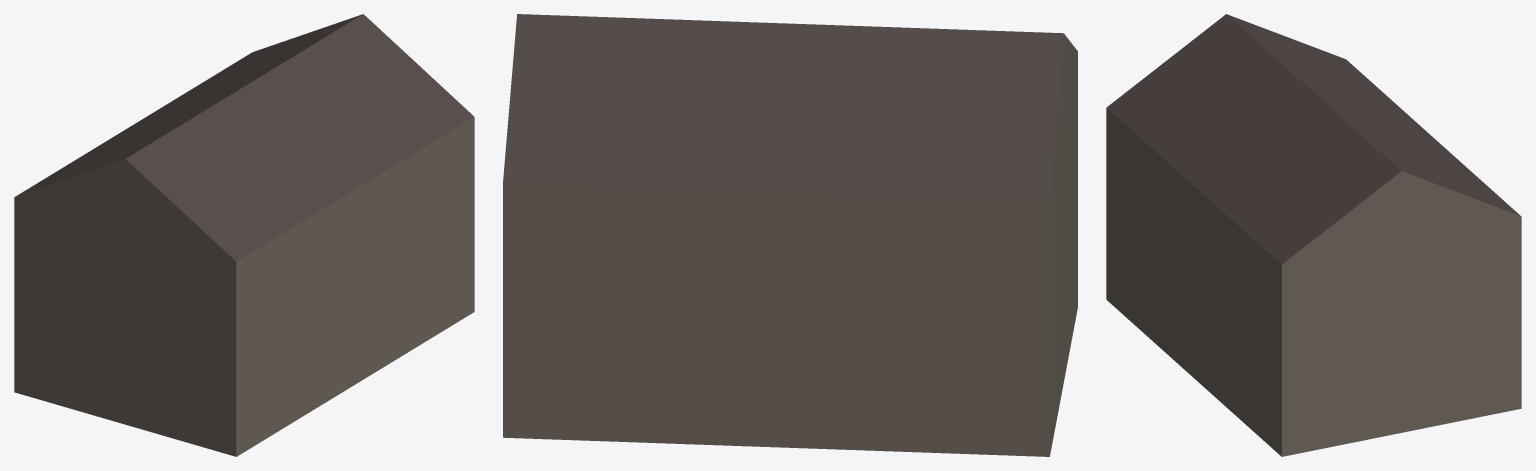
3 renders of one model, left to right at view 1: azimuth 30°, elevation 25°; view 2: azimuth 150°, elevation 25°; view 3: azimuth 270°, elevation 25°, orthographic. The views are drawn at different scales.
Visible parts, largest first — view 1: HP-w859086183; view 2: HP-w859086183; view 3: HP-w859086183.
Part boxes in pixels (box(x1,y1,x2,y2)): HP-w859086183: box(14, 14, 474, 456); HP-w859086183: box(503, 14, 1077, 456); HP-w859086183: box(1106, 14, 1521, 456).
Bounding box in the file's own units: 20.62 × 12.25 × 17.61.
